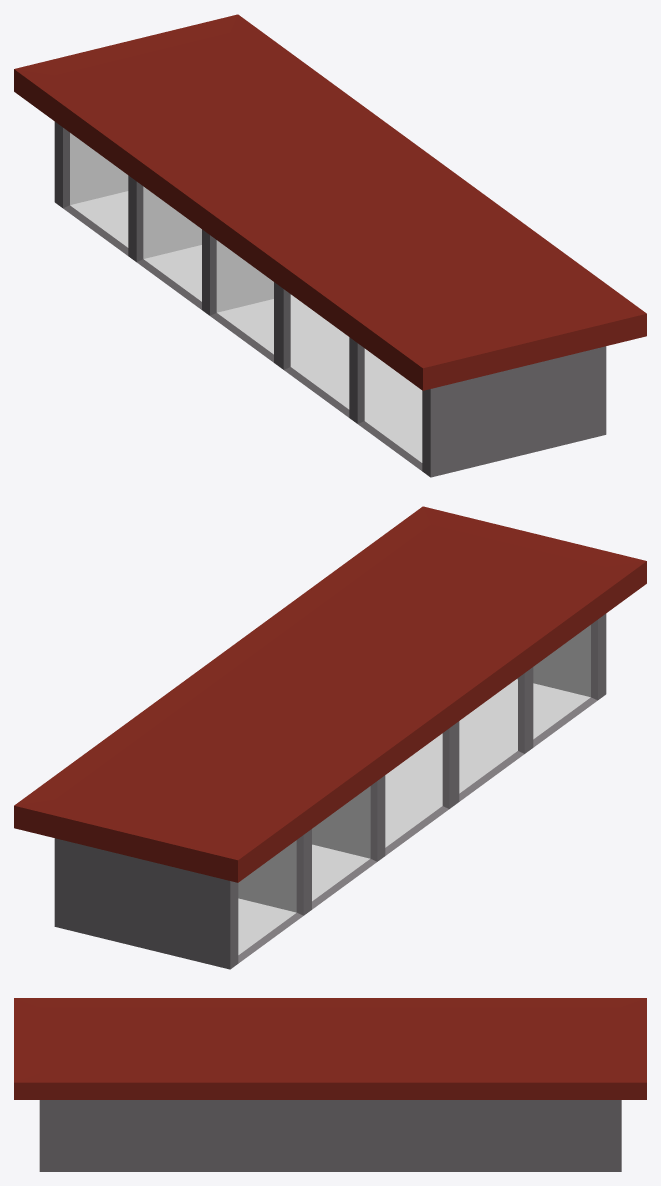
The model's file is Repair Shop Prototype.fbx.
3 renders of one model, top to bottom at view 1: azimuth 30°, elevation 25°; view 2: azimuth 150°, elevation 25°; view 3: azimuth 270°, elevation 25°, orthographic. The views are drawn at different scales.
Parts seen in each view (by area): view 1: Cube; view 2: Cube; view 3: Cube.
Part boxes in pixels (left/top/right/bottom): Cube: left=14, top=14, right=646, bottom=477; Cube: left=14, top=506, right=646, bottom=969; Cube: left=14, top=998, right=646, bottom=1171.
Bounding box in the file's own units: 791 × 429 × 2500.
